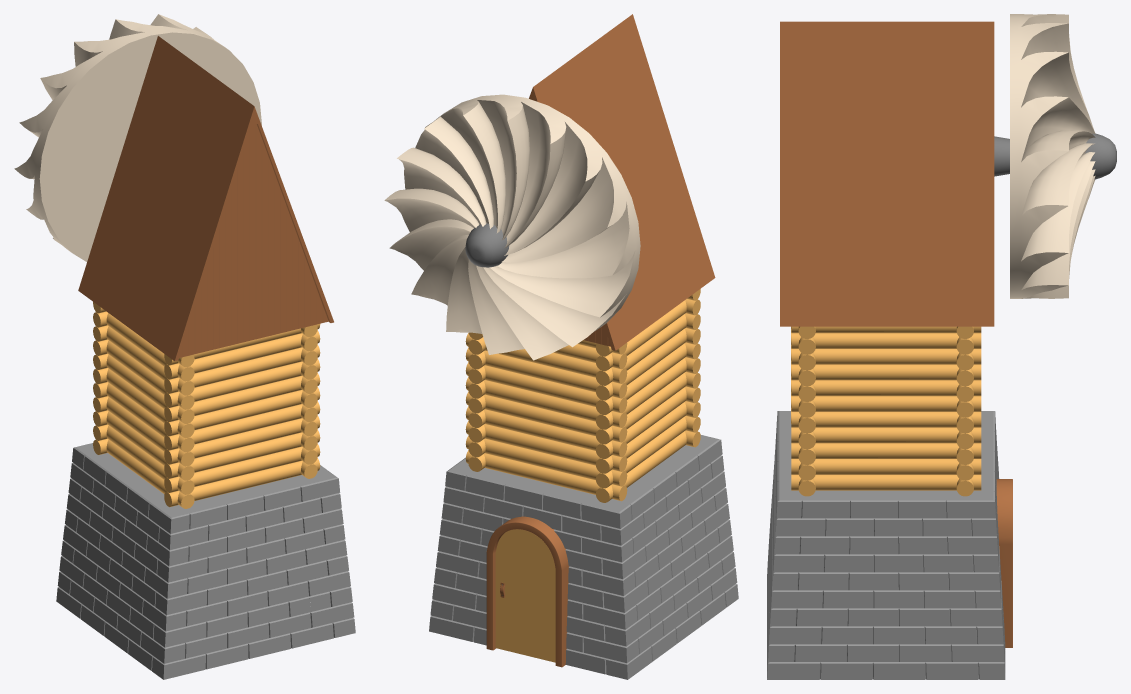
Rendered from Mill.fbx.
3 views of the same model, side by side, from view 1: azimuth 30°, elevation 25°; view 2: azimuth 150°, elevation 25°; view 3: azimuth 270°, elevation 25° (orthographic). The views are drawn at different scales.
Visible parts, largest first — view 1: Mill_LOD0; view 2: Mill_LOD0; view 3: Mill_LOD0.
Part boxes in pixels (box(x1,y1,x2,y2)): Mill_LOD0: box(14, 14, 355, 679); Mill_LOD0: box(384, 14, 738, 679); Mill_LOD0: box(767, 14, 1116, 679).
Size of what is drawn, in the model's own units: 378 by 464 by 887.
